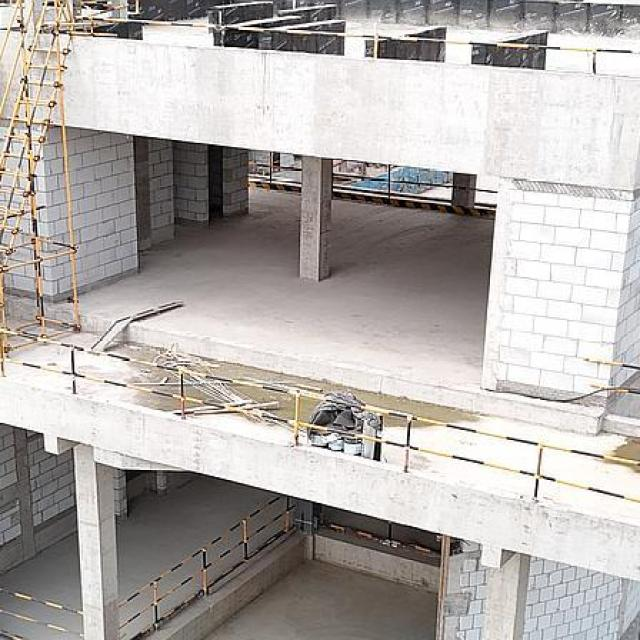edge_guardrail: (0, 327, 640, 503), (81, 15, 639, 76), (116, 493, 298, 640), (0, 584, 84, 639), (332, 164, 454, 199), (584, 357, 640, 396), (248, 151, 302, 183), (475, 188, 498, 193)
